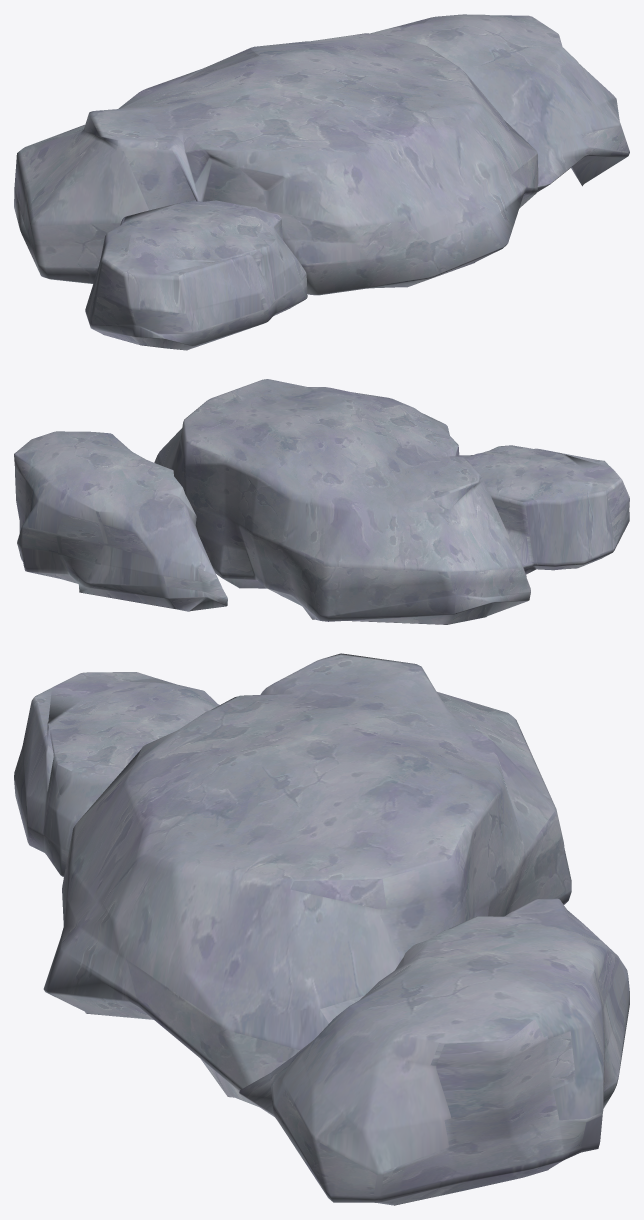
File: rock3 1.fbx
The picture shows the model from 3 angles, top to bottom: view 1: azimuth 30°, elevation 25°; view 2: azimuth 150°, elevation 25°; view 3: azimuth 270°, elevation 25°; orthographic projection. The views are drawn at different scales.
Parts seen in each view (by area): view 1: Plane04, Plane06, Plane05; view 2: Plane04, Plane05, Plane06; view 3: Plane04, Plane05, Plane06.
Boxes of the visible parts, left/top/right/bottom form: Plane04: left=14, top=33, right=538, bottom=295; Plane06: left=85, top=200, right=307, bottom=350; Plane05: left=370, top=14, right=629, bottom=192; Plane04: left=154, top=379, right=530, bottom=624; Plane05: left=14, top=431, right=227, bottom=611; Plane06: left=459, top=445, right=629, bottom=574; Plane04: left=43, top=653, right=571, bottom=1106; Plane05: left=239, top=898, right=629, bottom=1205; Plane06: left=14, top=672, right=219, bottom=877.
Bounding box in the file's own units: 15.6 × 4.38 × 9.88.
